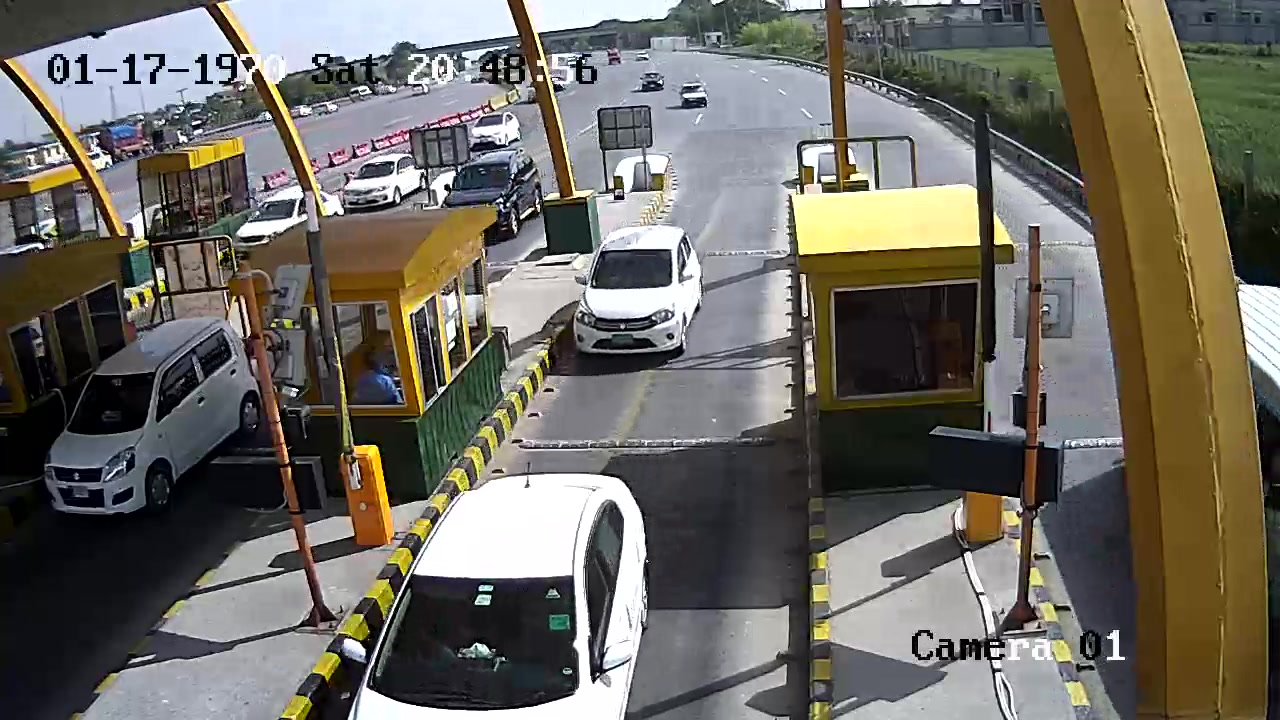F1: (555, 223, 721, 377)
